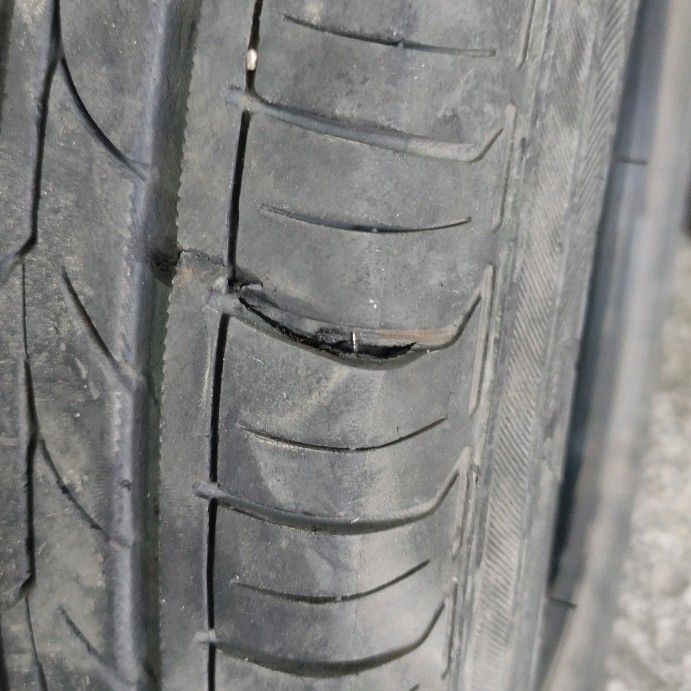tr: (143, 242, 489, 375)
